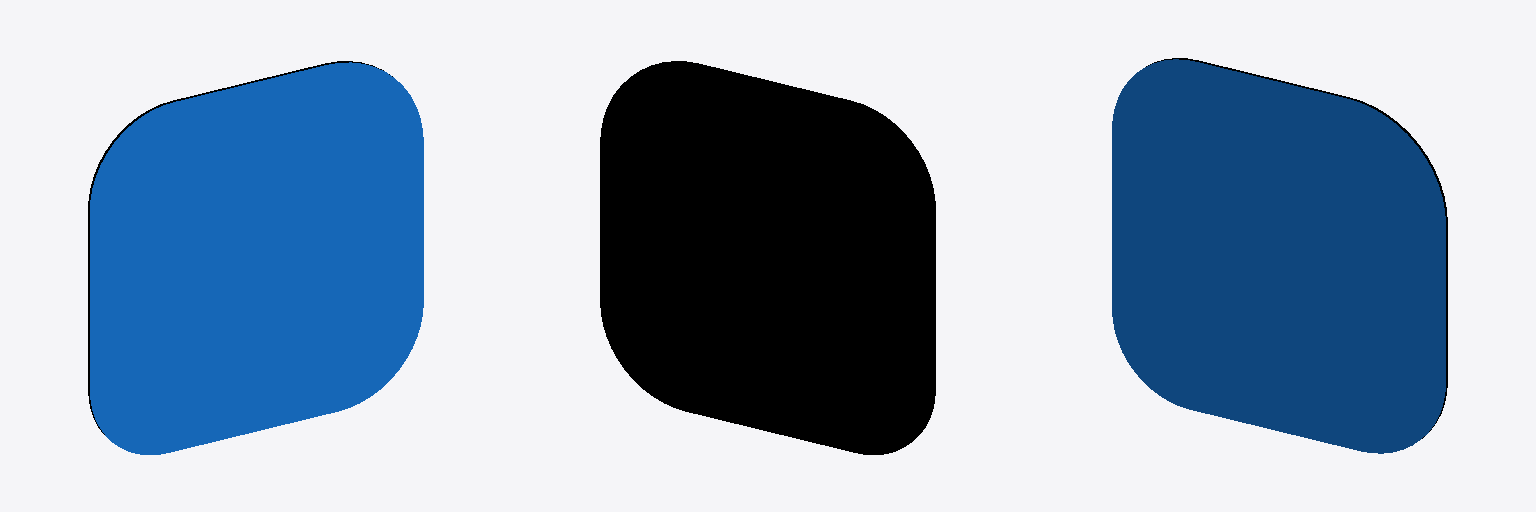
3 views of the same model, side by side, from view 1: azimuth 30°, elevation 25°; view 2: azimuth 150°, elevation 25°; view 3: azimuth 330°, elevation 25° (orthographic).
Visible parts, largest first — view 1: blue mousepad; view 2: blue mousepad; view 3: blue mousepad.
Part boxes in pixels (bbox=[...]): blue mousepad: bbox=[88, 61, 423, 454]; blue mousepad: bbox=[600, 61, 935, 454]; blue mousepad: bbox=[1112, 58, 1447, 453].
Bounding box in the file's own units: 6.56 × 6.56 × 0.0625.